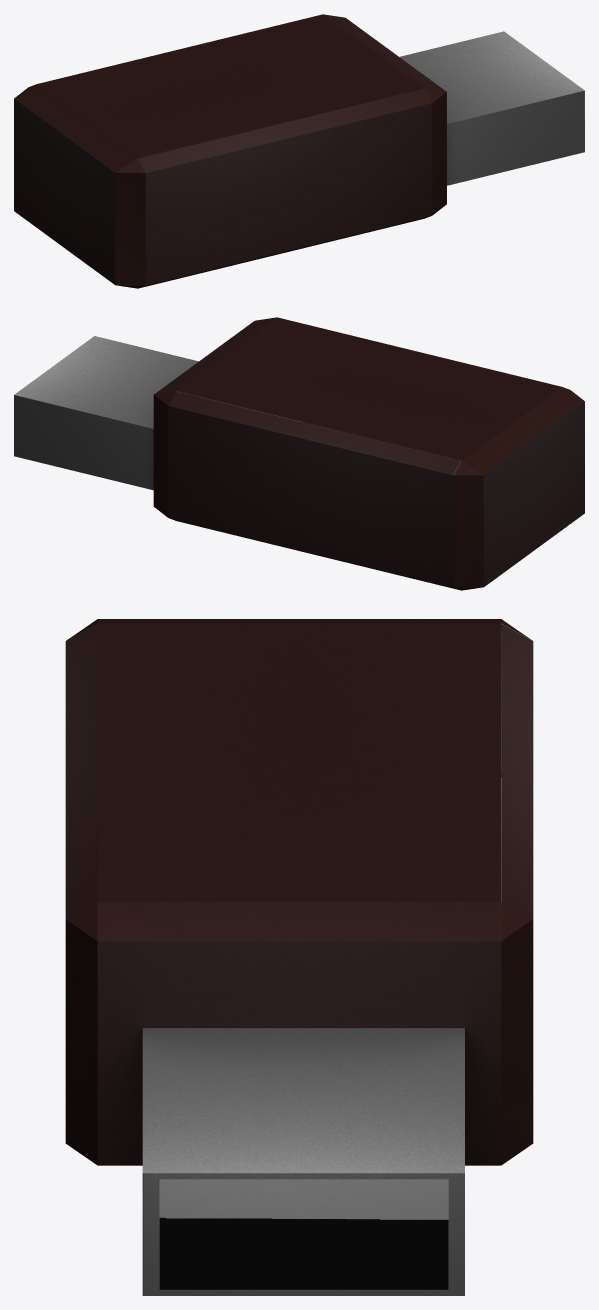
Rendered from ammopart2.dae.
3 views of the same model, one above another, from view 1: azimuth 30°, elevation 25°; view 2: azimuth 150°, elevation 25°; view 3: azimuth 270°, elevation 25° (orthographic). The views are drawn at different scales.
Parts seen in each view (by area): view 1: Cube; view 2: Cube; view 3: Cube.
Boxes of the visible parts, x1,y1,x2,y2 form: Cube: (14,14,584,288); Cube: (14,317,584,590); Cube: (65,619,533,1295).
Size of the model in its own units: 3.02 by 1.28 by 0.7814.
1 material, 1 textured.
